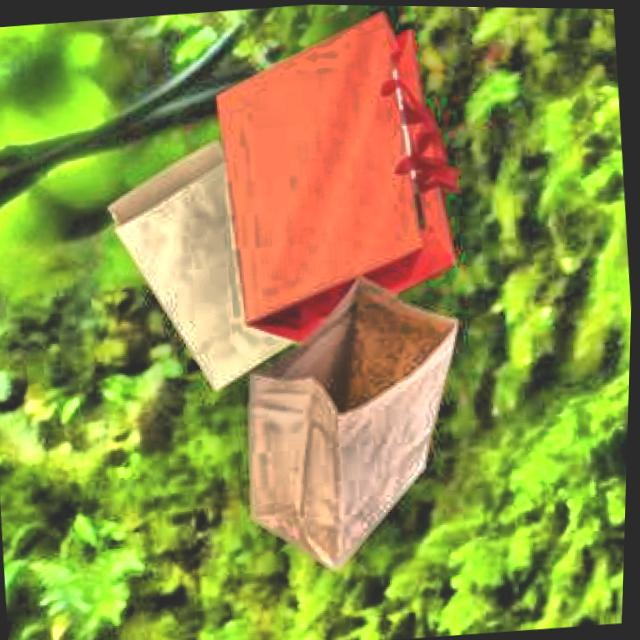Paper-bag: (178, 2, 489, 350), (211, 261, 485, 587)
